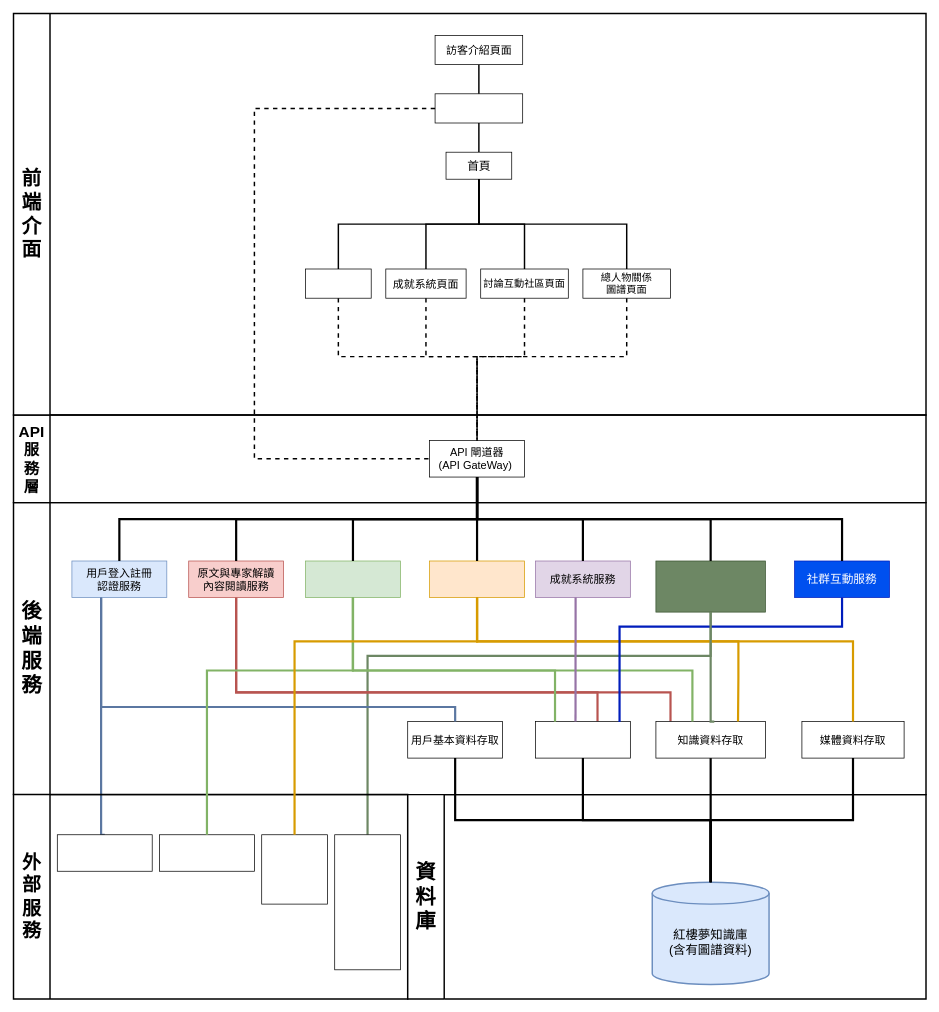
The diagram is 939 pixels wide and 1012 high, and some of its shapes have lost their labels. The centre of each missing label's shape, as x and y in pixels:
"AI問答外部API： Perplexity" belongs at (206,852).
"AI語音 朗讀服務API" belongs at (294,869).
"AI閱讀問答服務" belongs at (352,579).
"依文本自動生成章節圖譜集群 LLM Agent (實體識別+關係抽取)" belongs at (367,902).
"媒體管理服務" belongs at (477,579).
"用戶內容資料存取" belongs at (582,739).
"登入註冊頁面" belongs at (478,108).
"知識圖譜生成服務 (章節圖譜、總人物關係圖譜)" belongs at (710,586).
"第三方登入" belongs at (104,852).
"閱讀頁面" belongs at (338,283).
